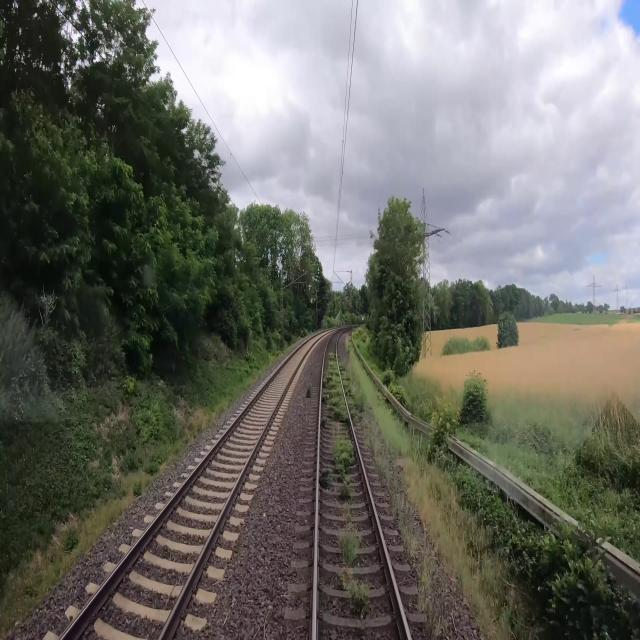Plant: (338, 359, 463, 639), (322, 351, 350, 422), (332, 434, 355, 484), (350, 577, 374, 619), (339, 528, 360, 565), (319, 469, 334, 489), (338, 506, 352, 524), (339, 484, 353, 502), (342, 568, 350, 588), (321, 415, 329, 427), (306, 385, 311, 398)
